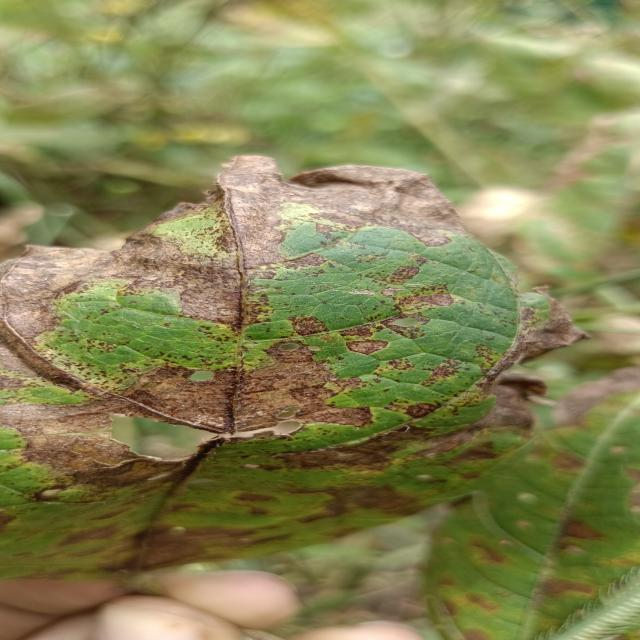Black gram_leaf spot: (0, 143, 551, 584), (405, 373, 640, 640)
